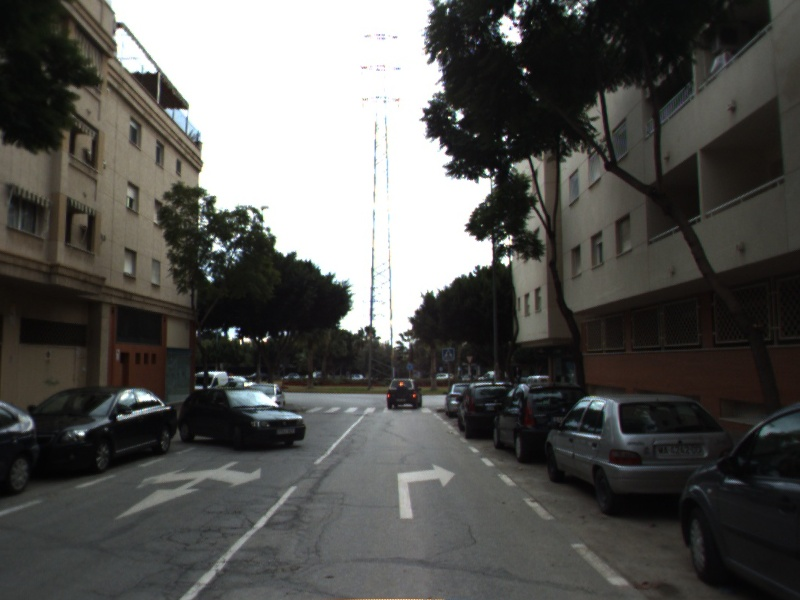RIGHT: (396, 461, 458, 521)
